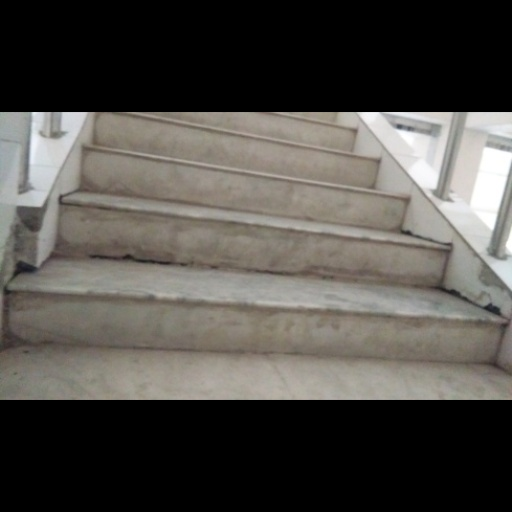Stairs: (0, 114, 512, 398)
